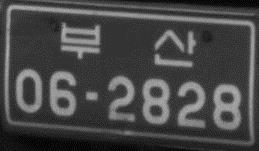-: (82, 87, 102, 104)
0: (14, 65, 43, 116)
2: (175, 80, 206, 130), (106, 73, 137, 122)
6: (47, 66, 77, 117)
8: (211, 81, 243, 133), (140, 76, 170, 126)
부산_D: (59, 18, 197, 71)
